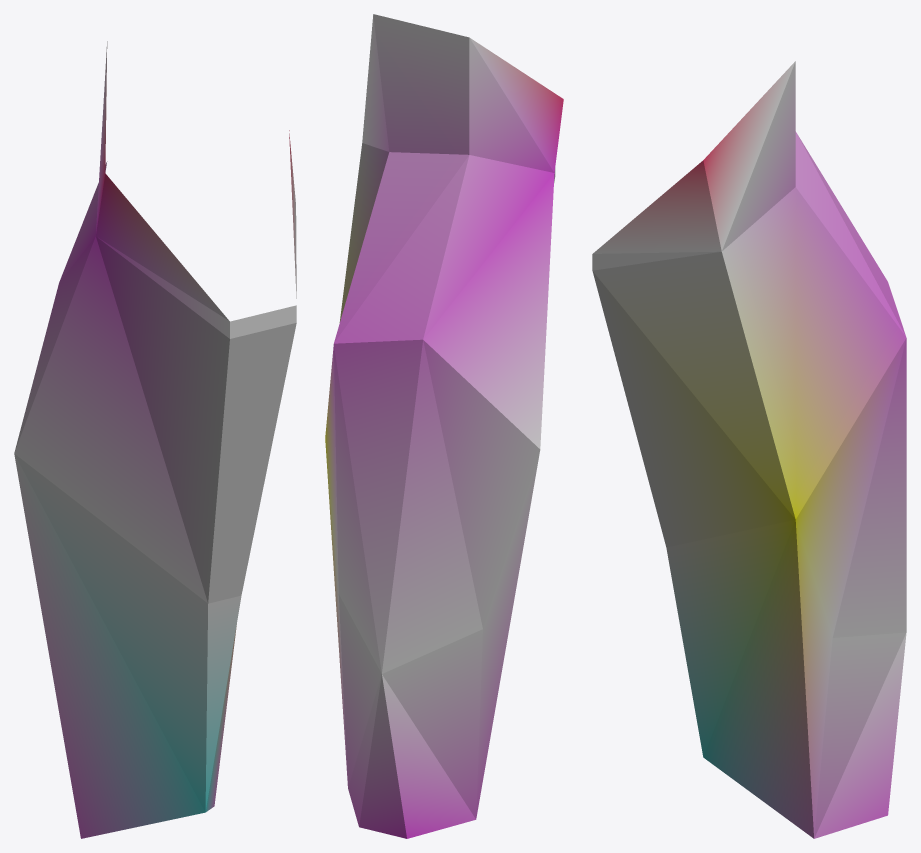
3 renders of one model, left to right at view 1: azimuth 30°, elevation 25°; view 2: azimuth 150°, elevation 25°; view 3: azimuth 270°, elevation 25°, orthographic. The views are drawn at different scales.
Visible parts, largest first — view 1: model_117F; view 2: model_117F; view 3: model_117F.
Boxes of the visible parts, x1=… form: model_117F: x1=14, y1=41, x2=296, y2=838; model_117F: x1=325, y1=14, x2=563, y2=838; model_117F: x1=592, y1=61, x2=906, y2=838.
Bounding box in the file's own units: 14 × 46 × 17.
